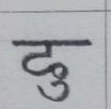u_matra: (37, 81, 71, 102)
